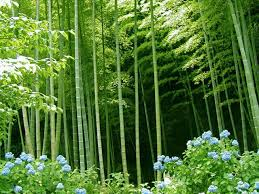bamboo: (7, 2, 165, 158), (171, 2, 259, 135)
